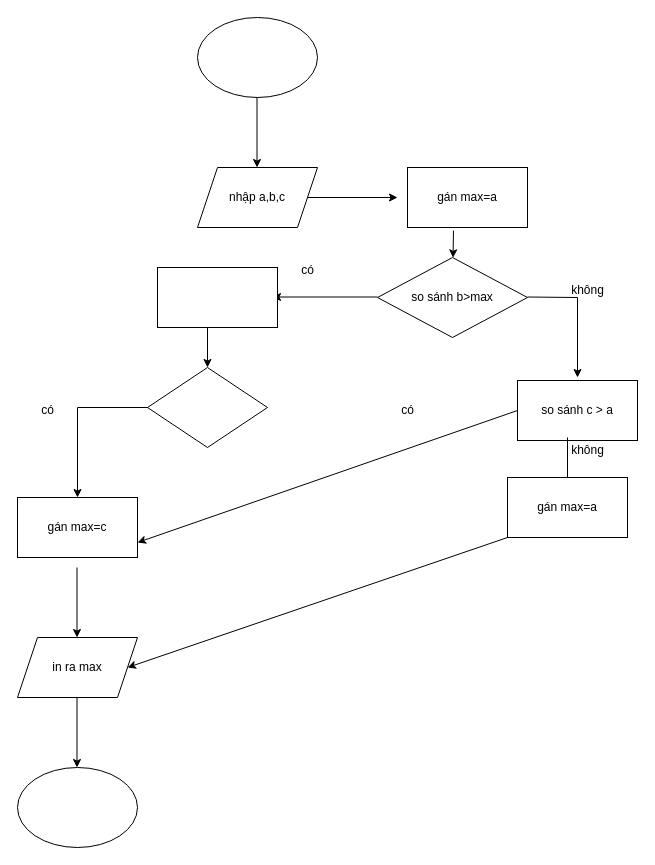
Image size: 655x865. Some labels were removed from this diagram. Here are the shapes that lost their labels. From the top down, the centre of each, then its label:
the point at 257,57: bắt đầu
the point at 217,297: gán max=b
the point at 207,407: so sánh c> max
the point at 77,807: kết thúc
